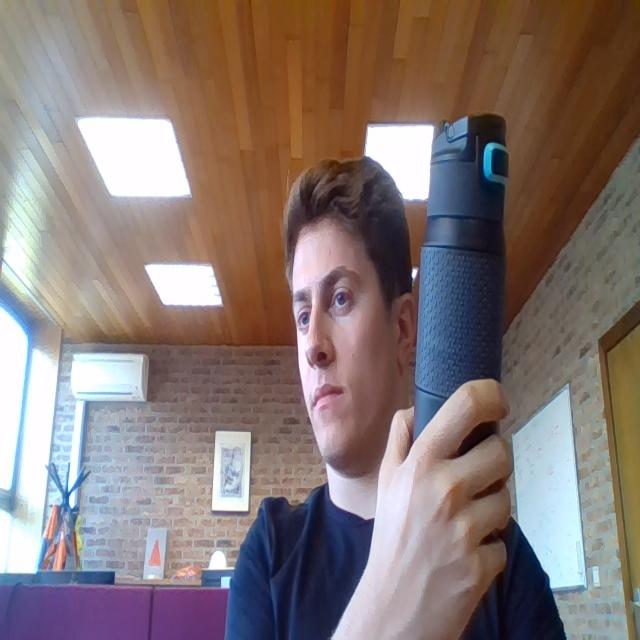bottle: (400, 90, 514, 558)
